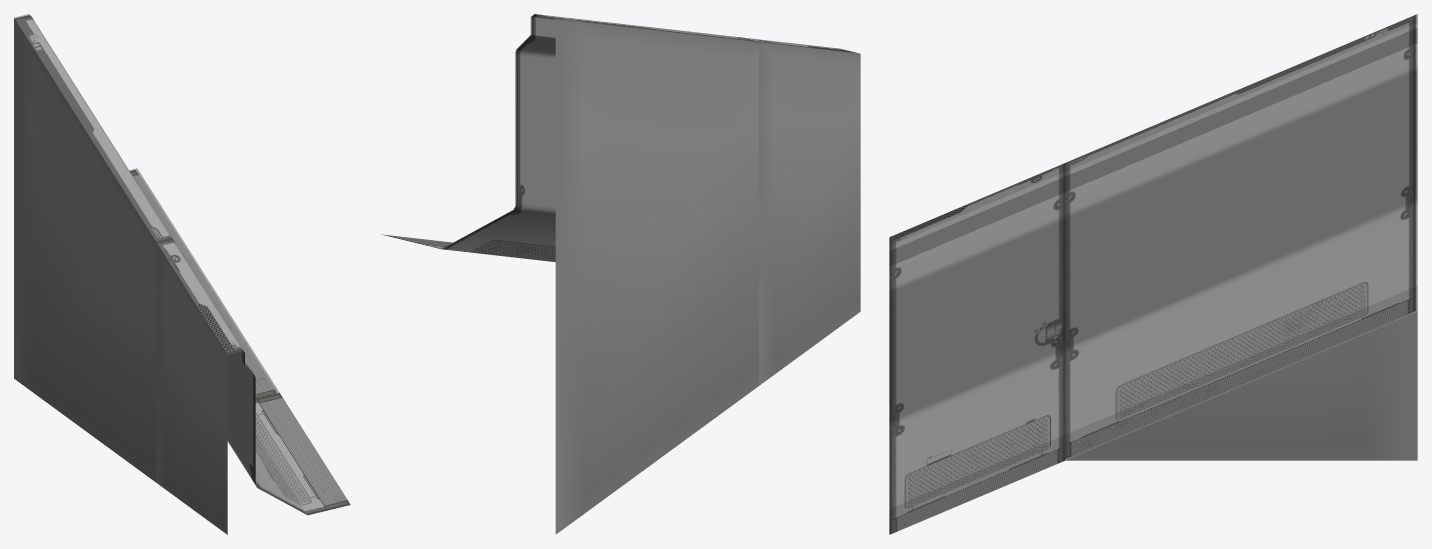
File: A_Wall_Ramp_R_2x6.FBX
3 renders of one model, left to right at view 1: azimuth 30°, elevation 25°; view 2: azimuth 150°, elevation 25°; view 3: azimuth 270°, elevation 25°, orthographic. The views are drawn at different scales.
Visible parts, largest first — view 1: A_Wall_Ramp_R_2x6; view 2: A_Wall_Ramp_R_2x6; view 3: A_Wall_Ramp_R_2x6.
Part boxes in pixels (x1,y1,x2,y2): A_Wall_Ramp_R_2x6: (14, 14, 350, 534); A_Wall_Ramp_R_2x6: (381, 14, 860, 534); A_Wall_Ramp_R_2x6: (889, 14, 1417, 534).
Size of the model in its own units: 200 by 560 by 600.
